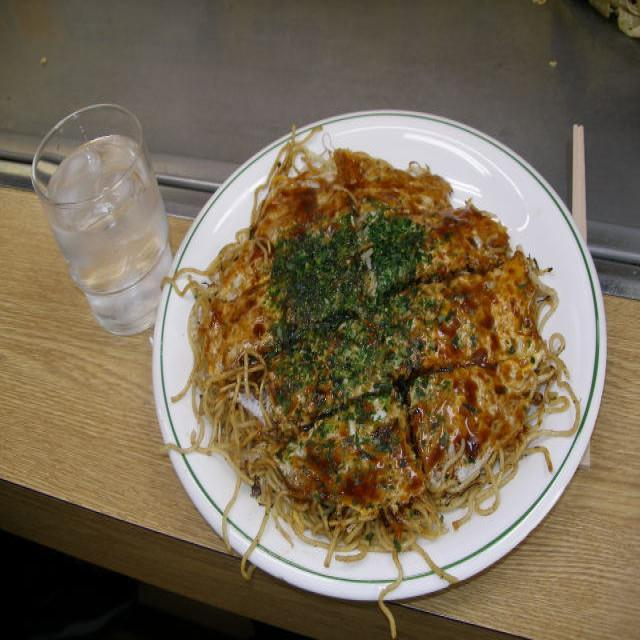蛋糕甜品: (202, 145, 568, 544)
